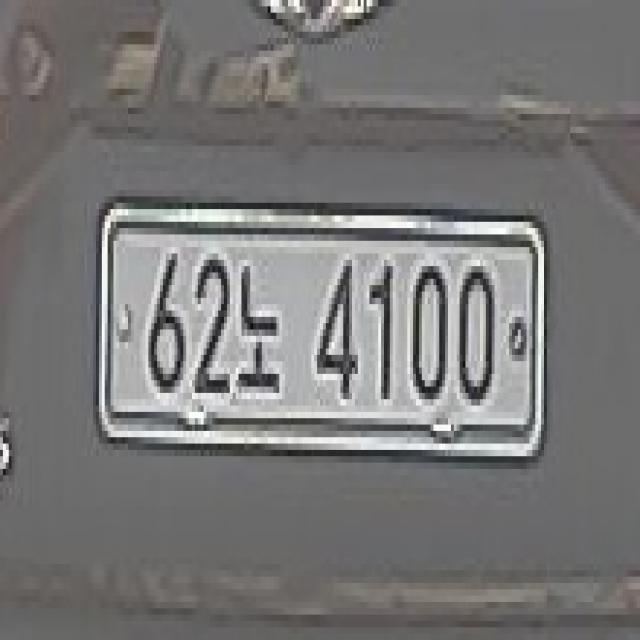0: (408, 256, 449, 405), (456, 257, 496, 409)
1: (364, 251, 401, 412)
2: (192, 243, 232, 407)
4: (308, 248, 362, 404)
6: (142, 245, 188, 400)
license_plate: (93, 182, 556, 495)
no: (236, 247, 281, 417)
